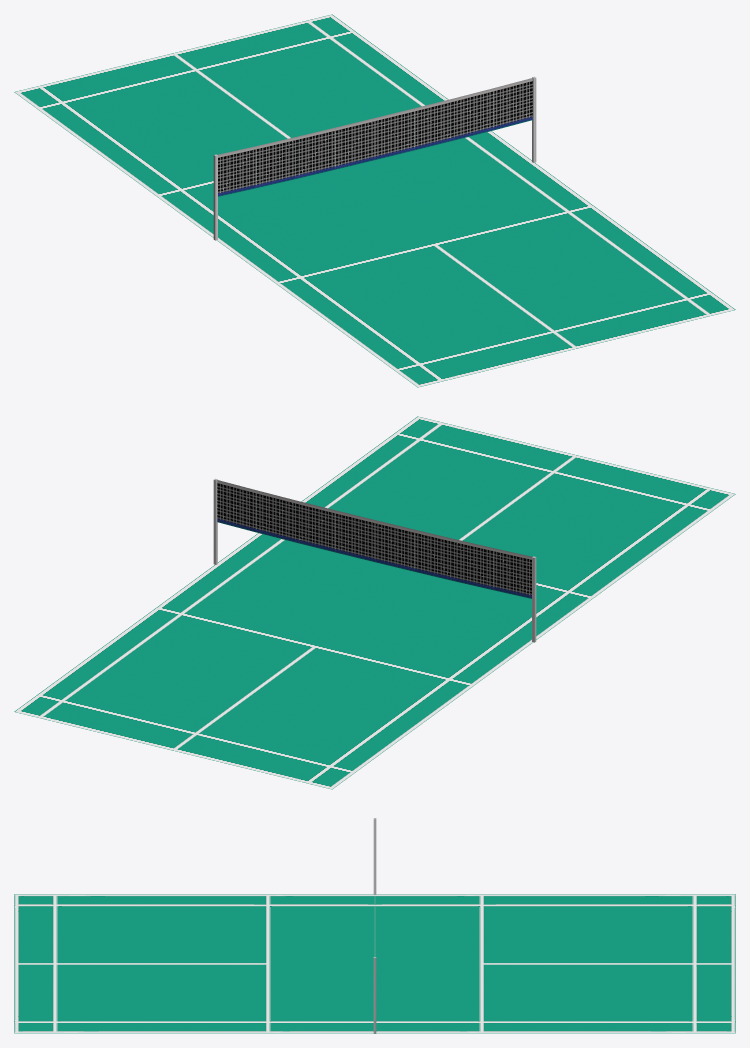
The model's file is mdl_raqscene_badminton_stage0.glb.
The picture shows the model from 3 angles, top to bottom: view 1: azimuth 30°, elevation 25°; view 2: azimuth 150°, elevation 25°; view 3: azimuth 270°, elevation 25°; orthographic projection. The views are drawn at different scales.
Parts seen in each view (by area): view 1: court; view 2: court; view 3: court.
Boxes of the visible parts, left/top/right/bottom form: court: left=14, top=14, right=735, bottom=387; court: left=14, top=416, right=735, bottom=789; court: left=14, top=818, right=735, bottom=1033.
Bounding box in the file's own units: 6.15 × 1.55 × 13.4.
1 material, 1 textured.
